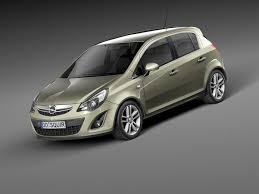opel: (48, 103, 58, 115)
